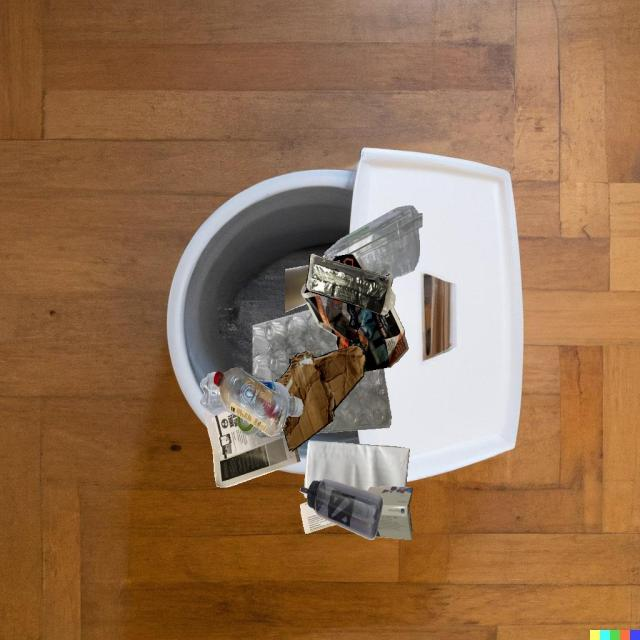cardboard: (275, 346, 365, 451), (367, 486, 413, 540)
glass: (285, 265, 309, 312), (237, 415, 260, 436)
paper: (301, 283, 409, 372), (204, 411, 301, 487), (304, 440, 410, 491), (300, 502, 336, 534)
plastic: (324, 205, 422, 279), (254, 375, 364, 434), (306, 253, 396, 316), (252, 310, 338, 375), (213, 367, 288, 437), (300, 478, 383, 539), (316, 368, 391, 433), (257, 380, 303, 418), (200, 372, 237, 416)
